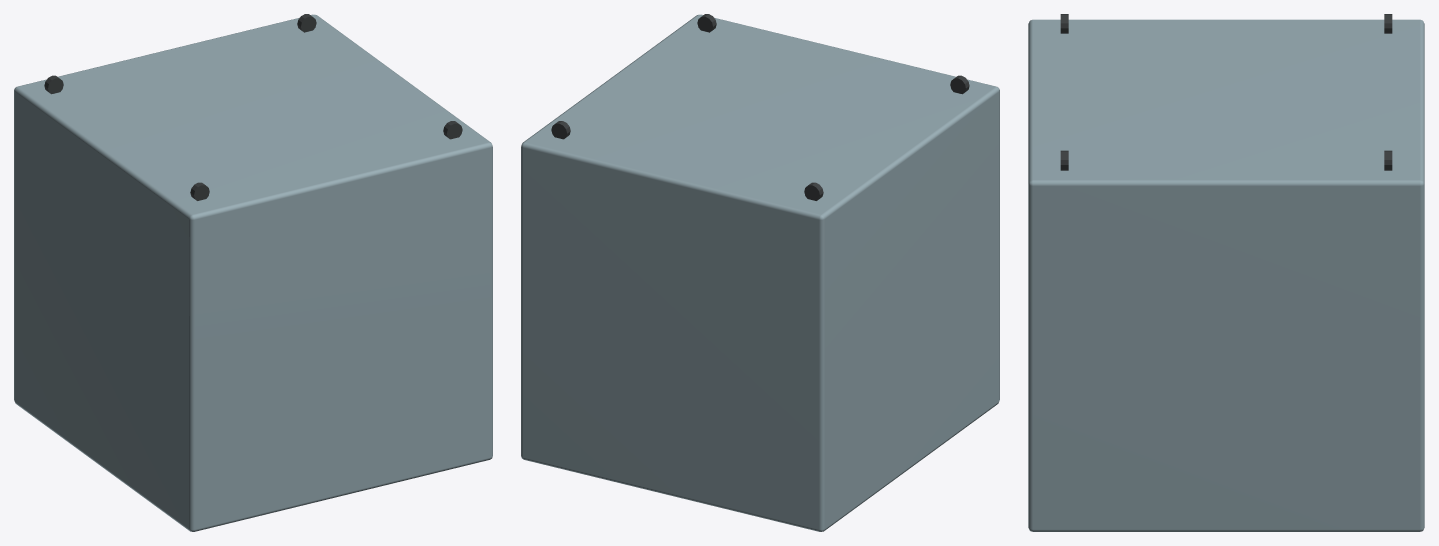
The model's file is Titanium.glb.
3 renders of one model, left to right at view 1: azimuth 30°, elevation 25°; view 2: azimuth 150°, elevation 25°; view 3: azimuth 270°, elevation 25°, orthographic. The views are drawn at different scales.
Parts seen in each view (by area): view 1: solid wall.003; view 2: solid wall.003; view 3: solid wall.003.
Boxes of the visible parts, left/top/right/bottom form: solid wall.003: left=14, top=14, right=492, bottom=531; solid wall.003: left=521, top=14, right=999, bottom=531; solid wall.003: left=1028, top=19, right=1424, bottom=531.
Bounding box in the file's own units: 0.96 × 1 × 0.98.
